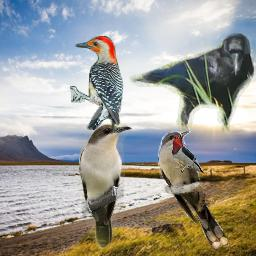Crow: (129, 33, 254, 132)
Cuckoo: (158, 131, 229, 249), (79, 124, 132, 250)
Woodpecker: (70, 36, 125, 130), (170, 132, 206, 178)
